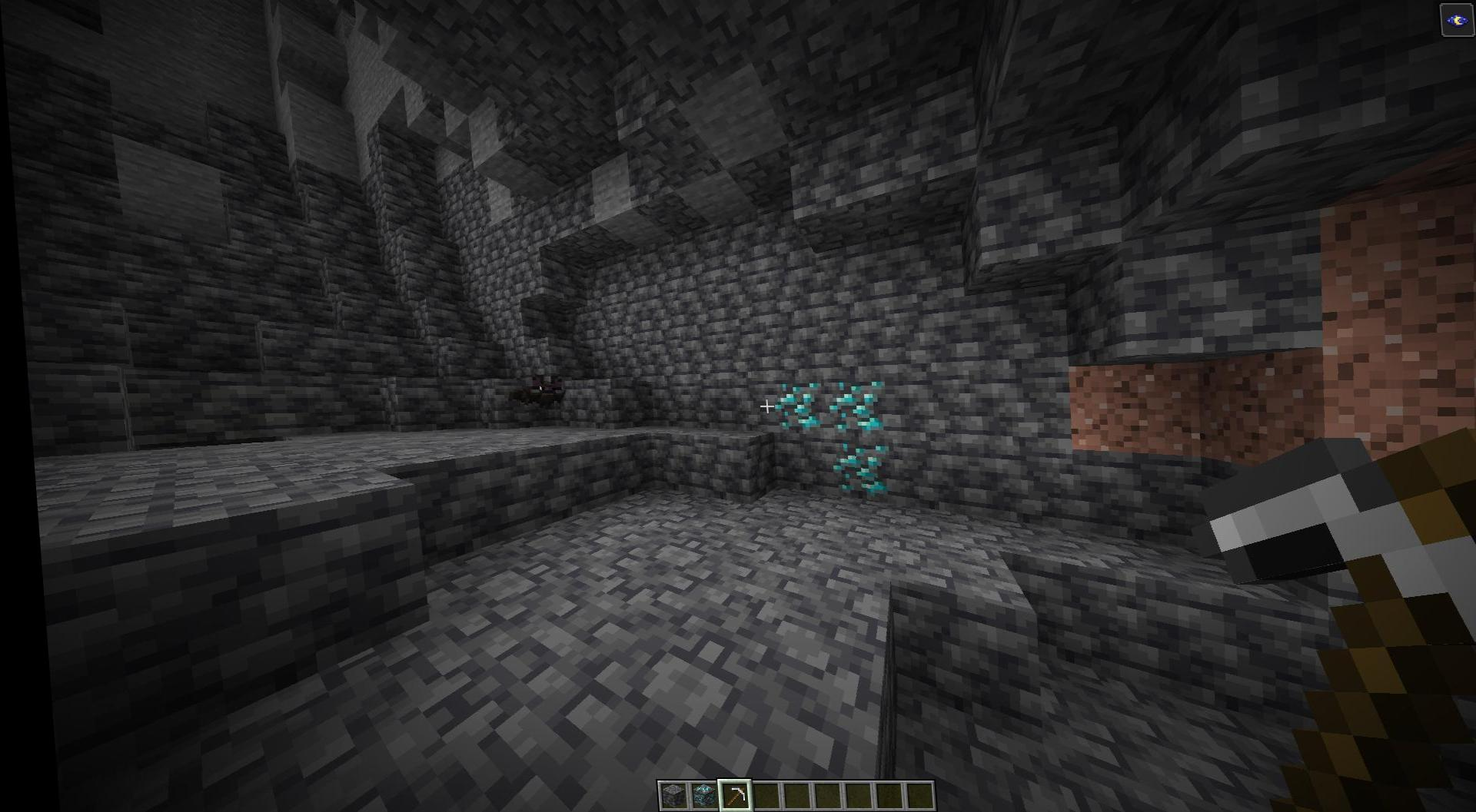diamond ore: (821, 439, 885, 500), (820, 381, 883, 432), (766, 381, 819, 436)
